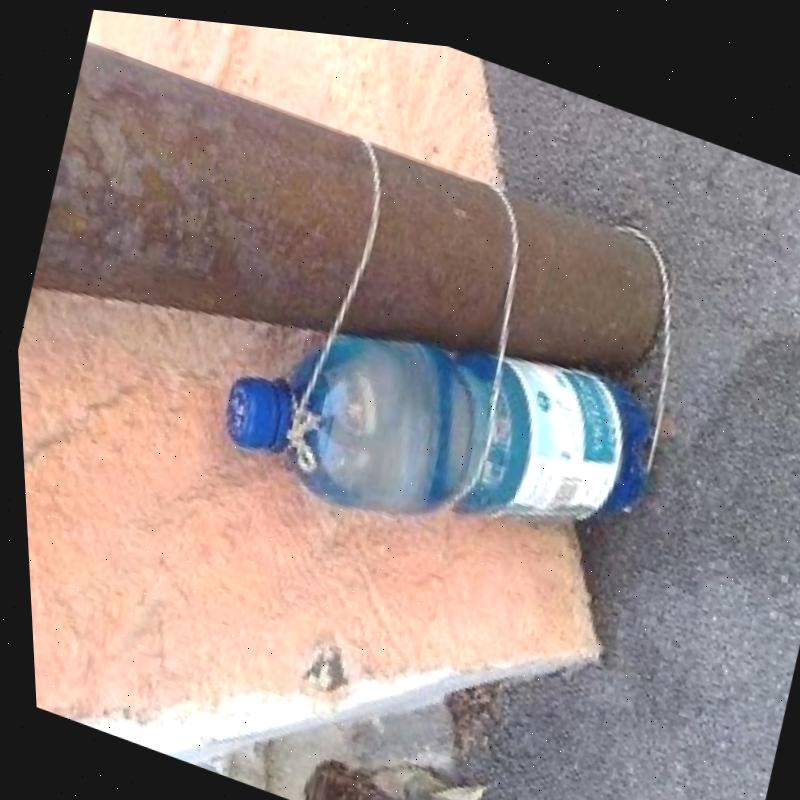botella: (201, 236, 677, 604)
